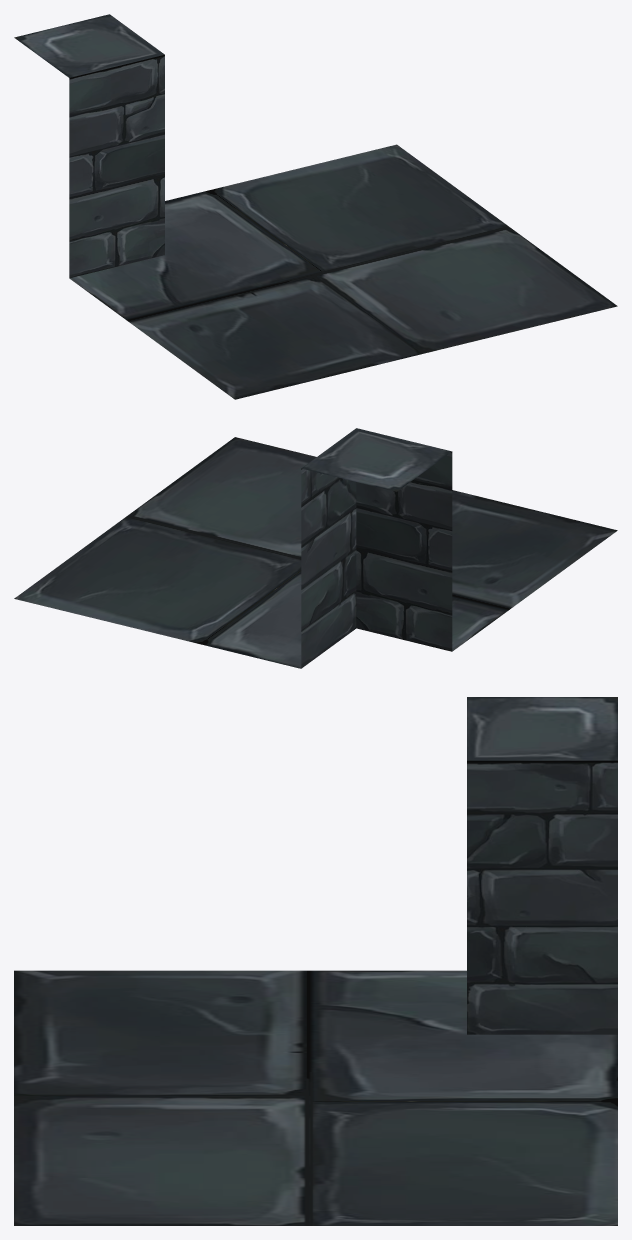
File: nitch.fbx
The picture shows the model from 3 angles, top to bottom: view 1: azimuth 30°, elevation 25°; view 2: azimuth 150°, elevation 25°; view 3: azimuth 270°, elevation 25°; orthographic projection. The views are drawn at different scales.
Visible parts, largest first — view 1: nitch_geo; view 2: nitch_geo; view 3: nitch_geo.
Boxes of the visible parts, left/top/right/bottom form: nitch_geo: left=14, top=14, right=617, bottom=399; nitch_geo: left=14, top=428, right=617, bottom=668; nitch_geo: left=14, top=697, right=617, bottom=1225.
Bounding box in the file's own units: 1 × 0.5 × 1.
Materials: 1 (1 with a texture image).
